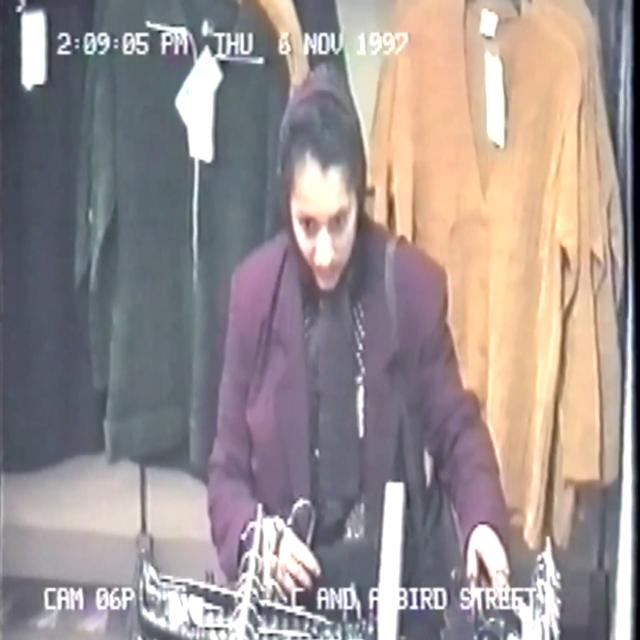Product: (259, 521, 358, 609)
shoplifting: (140, 0, 533, 640)
